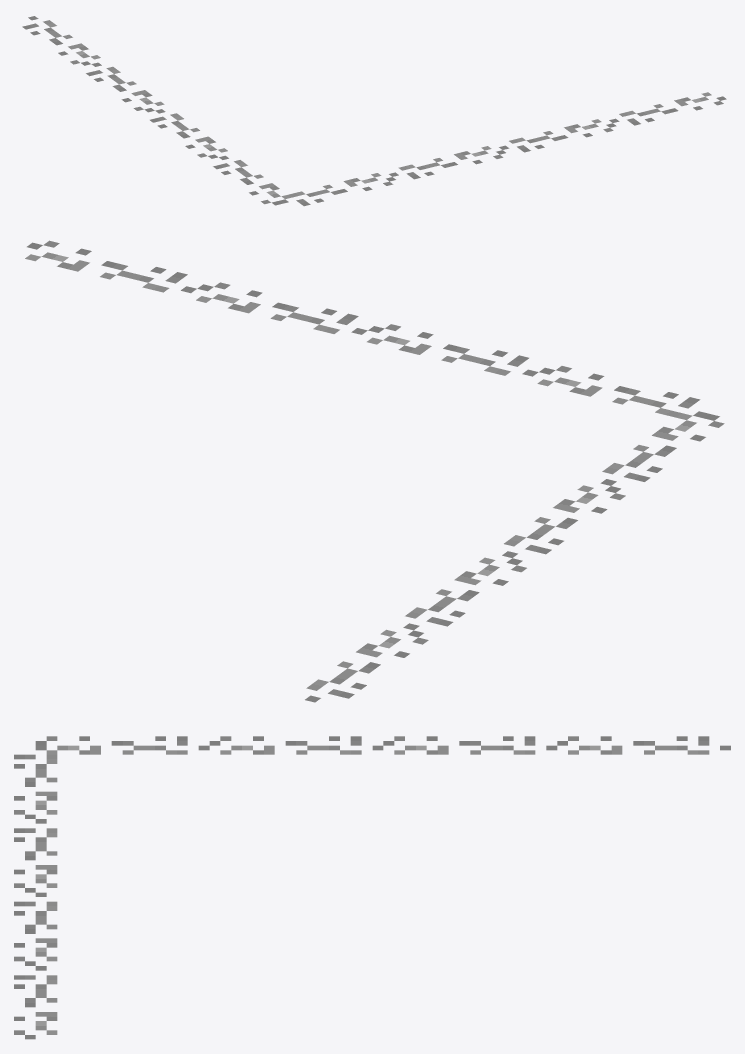
File: block_tripwire_ne.gltf
3 renders of one model, top to bottom at view 1: azimuth 30°, elevation 25°; view 2: azimuth 150°, elevation 25°; view 3: azimuth 270°, elevation 25°, orthographic. The views are drawn at different scales.
Visible parts, largest first — view 1: cube (×4); view 2: cube (×4); view 3: cube (×4).
Part boxes in pixels (left/top/right/bottom): cube (×4): left=22, top=16, right=726, bottom=206; cube (×4): left=25, top=240, right=724, bottom=702; cube (×4): left=14, top=736, right=730, bottom=1039.
Size of the model in its own units: 0.5156 by 6.25e-05 by 0.5156.
1 material, 1 textured.
